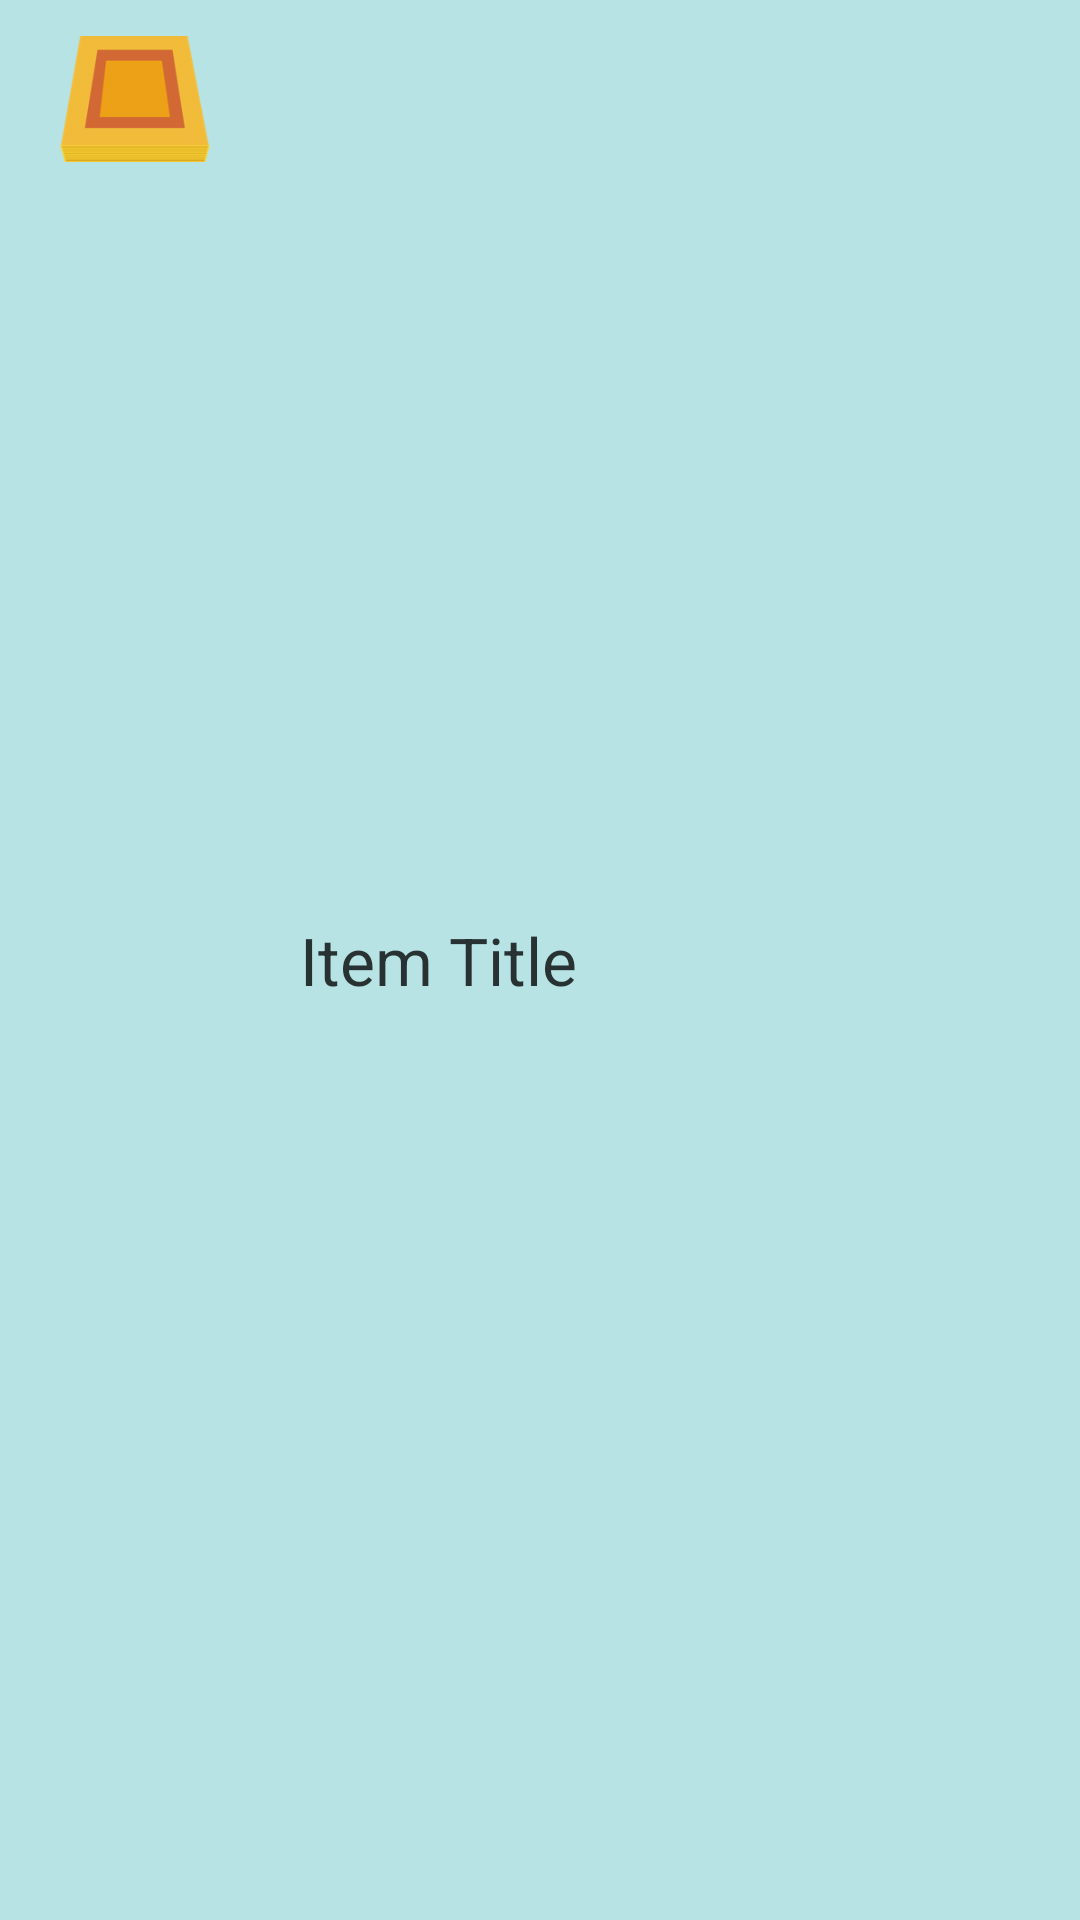

Icons on this 1080 × 1920 Android screen, each with the point to tap as (x,y):
goldpaper: (135,99)
